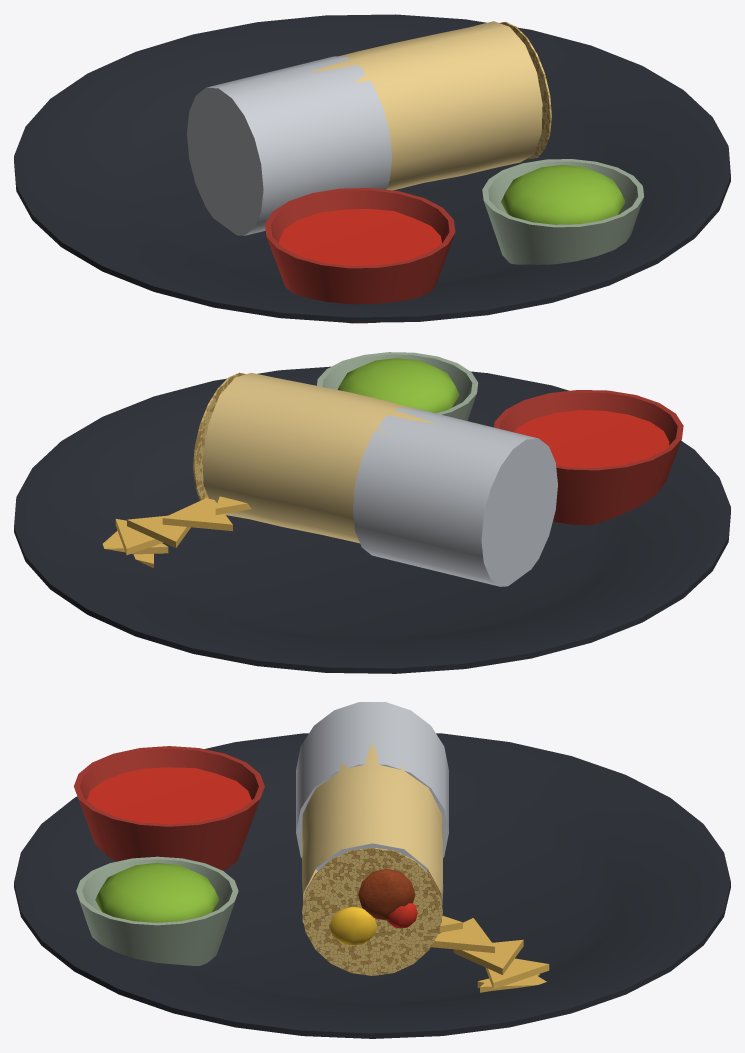
File: meal_burrito_plate.glb
The picture shows the model from 3 angles, top to bottom: view 1: azimuth 30°, elevation 25°; view 2: azimuth 150°, elevation 25°; view 3: azimuth 270°, elevation 25°; orthographic projection.
Visible parts, largest first — view 1: meal_burrito_plate; view 2: meal_burrito_plate; view 3: meal_burrito_plate.
Part boxes in pixels (<box>): meal_burrito_plate: <box>14,14,730,323</box>; meal_burrito_plate: <box>14,352,730,673</box>; meal_burrito_plate: <box>14,702,730,1038</box>.
Bounding box in the file's own units: 0.3 × 0.0703 × 0.3.
Materials: 11 (2 with a texture image).
